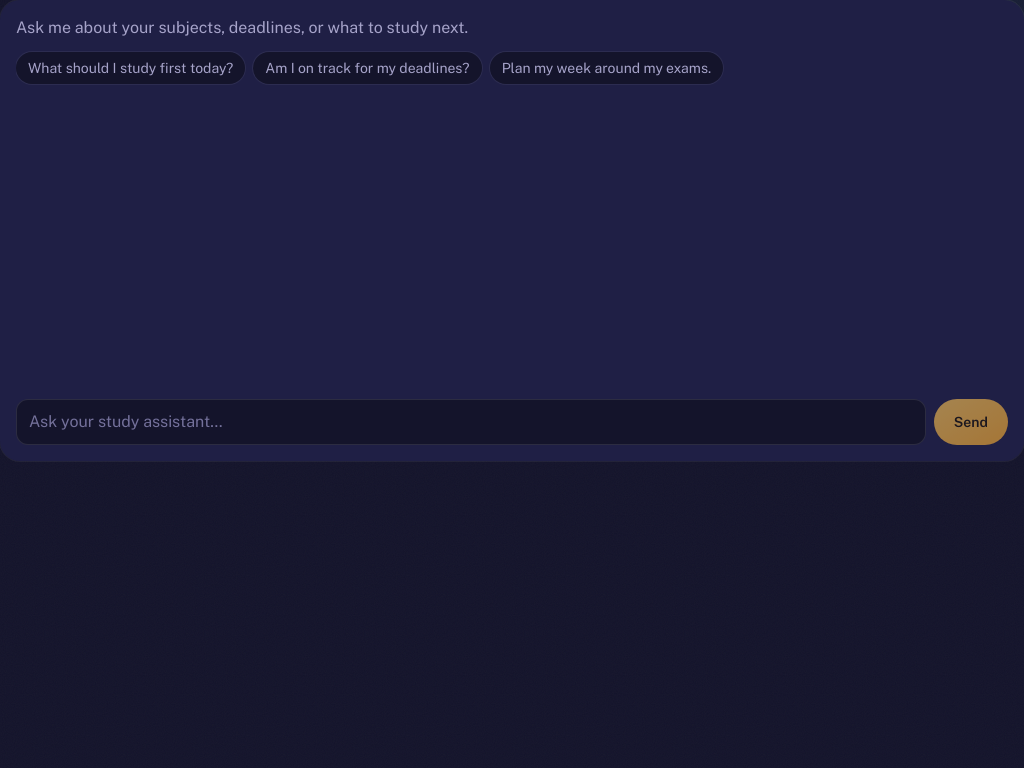
AssistantChat › sends a message and shows the user bubble + assistant reply
Type "What first?" into the field named "message". click: point(471, 422)
box: 16,399 -> 926,445
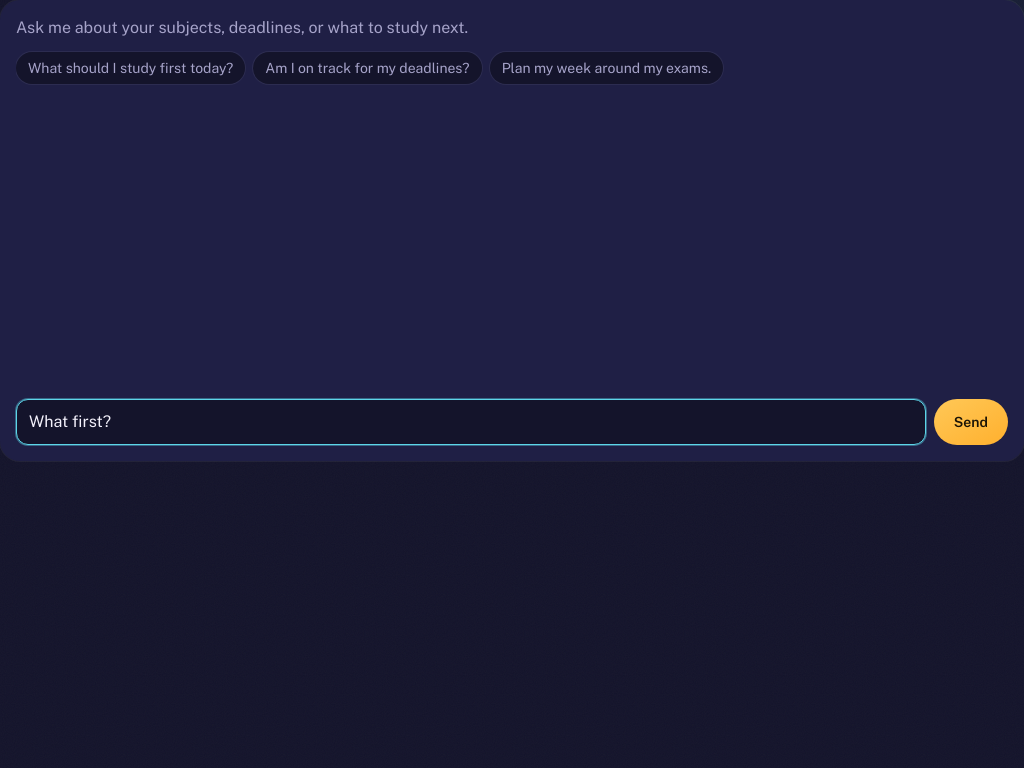
Click the button "Send". click: point(971, 422)
box: 934,399 -> 1008,445
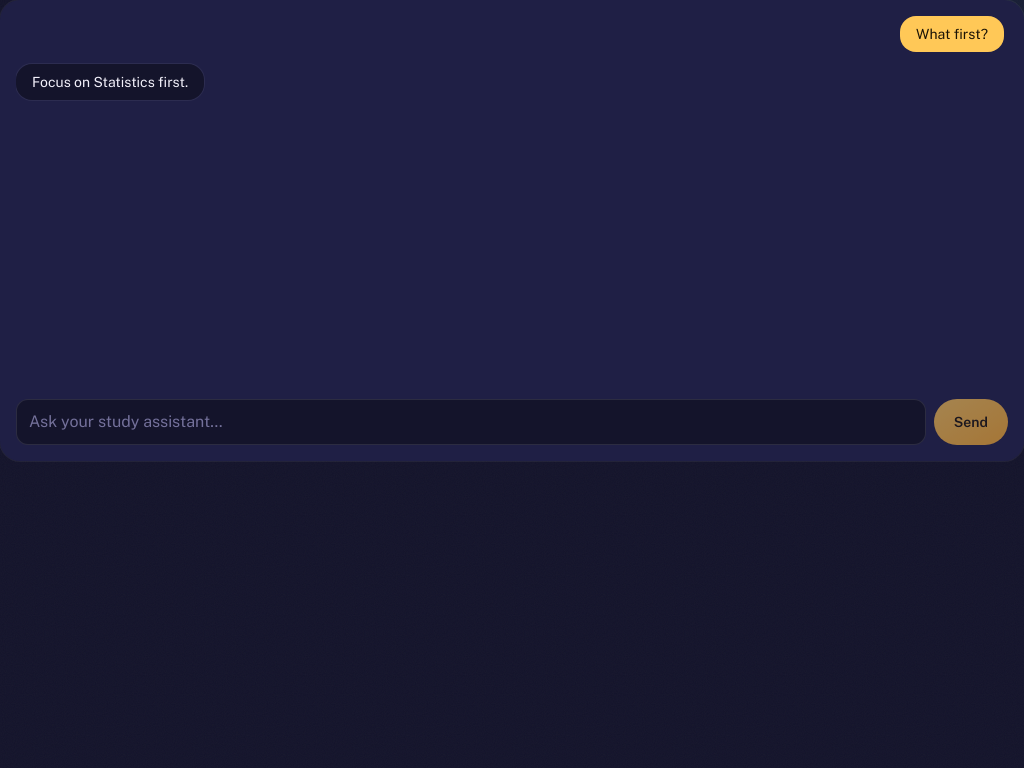
Expected: the text "What first?" is shown, 900,16 -> 1004,52
Expected: the text "Focus on Statistics first." is shown, 16,64 -> 204,100
